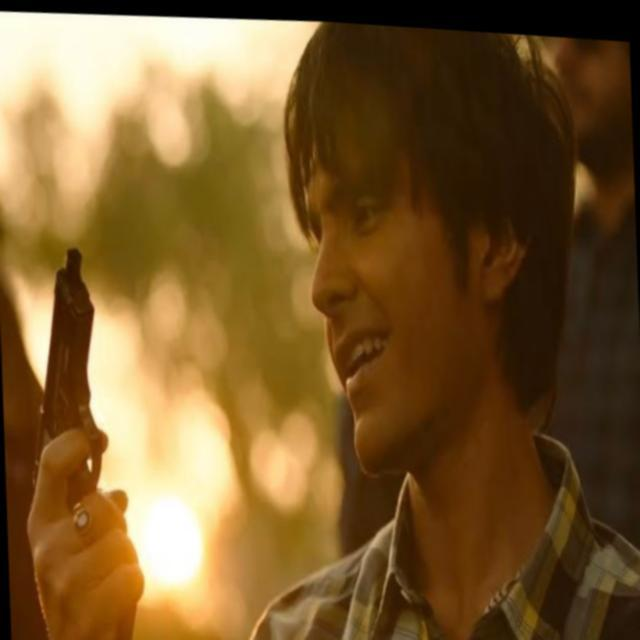weapon: (16, 235, 143, 640)
